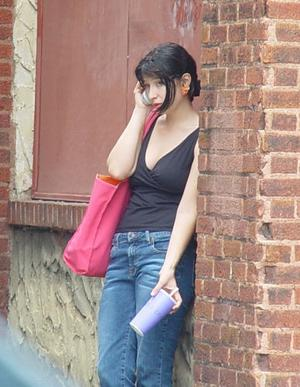person: (63, 45, 199, 382)
